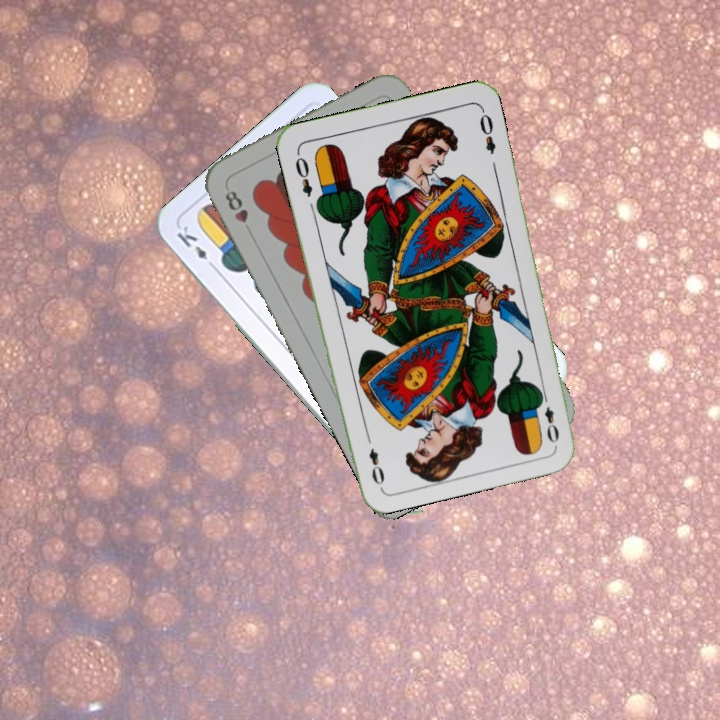EK: (173, 221, 220, 273)
EO: (535, 388, 562, 446), (291, 148, 315, 200)
H8: (221, 186, 256, 237)
